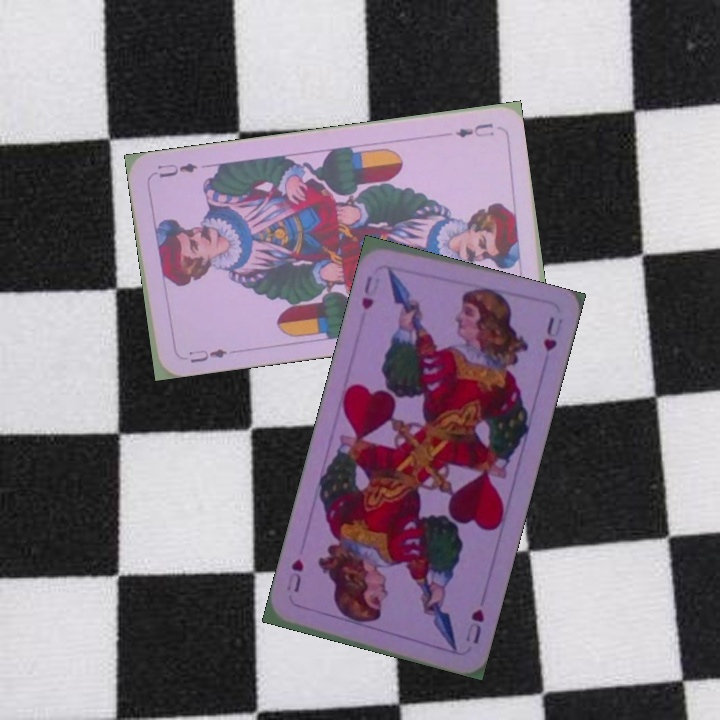EU: (184, 344, 230, 366), (451, 119, 497, 140)
HU: (461, 605, 487, 647), (357, 272, 376, 313)
